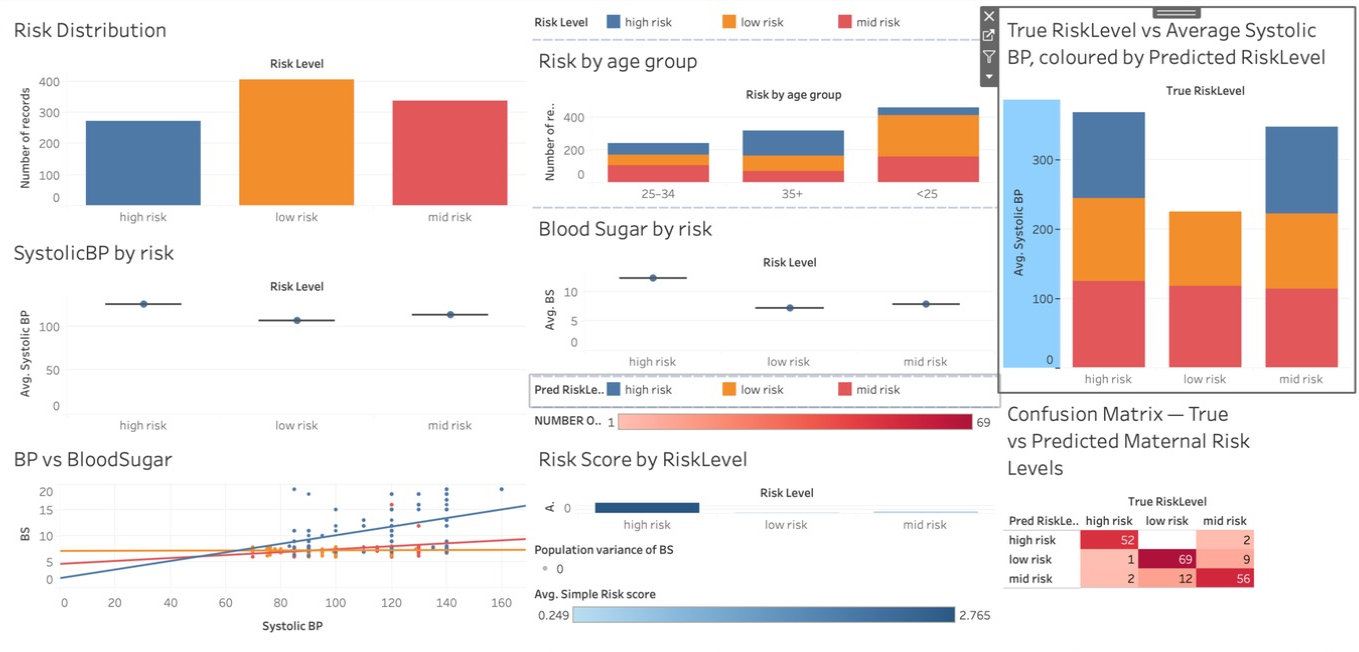

Layout of this report page (visuals, bound fields, positions):
{"tool":"tableau","page":{"name":"Maternal Risk Dashboard","canvas":[1000,1000],"units":"permille","ordinal":0},"visuals":[{"type":"worksheet","title":"Risk Distribution","mark":"Automatic","rows":["Calculation_1932114620417363980"],"cols":["RiskLevel"],"box":[5.7,10.4,384.7,342.4]},{"type":"legend","title":"Risk Distribution","param":"[federated.1vqqkcg0n0hl2g129fwqc1333trl].[none:RiskLevel:nk]","box":[390.4,10.4,343.7,44.7]},{"type":"worksheet","title":"True RiskLevel vs Average Systolic BP, coloured by Predicted RiskLevel","mark":"Bar","rows":["SystolicBP"],"cols":["True_RiskLevel","Pred_RiskLevel"],"box":[734.1,10.4,260.3,589.8]},{"type":"worksheet","title":"Risk by age group","mark":"Automatic","rows":["Calculation_1932114620417363980"],"cols":["Calculation_1932114620420632590"],"box":[390.4,55.1,343.7,246.1]},{"type":"worksheet","title":"Blood Sugar by risk","mark":"Circle","rows":["BS"],"cols":["RiskLevel"],"box":[390.4,301.2,343.7,279.9]},{"type":"worksheet","title":"SystolicBP by risk","mark":"Circle","rows":["SystolicBP"],"cols":["RiskLevel"],"box":[5.7,352.8,384.7,318.4]},{"type":"legend","title":"True RiskLevel vs Average Systolic BP, coloured by Predicted RiskLevel","param":"[federated.1jb1w0q1s1ge2d1ayn14j0btzosp].[none:Pred_RiskLevel:nk]","box":[390.4,581.1,343.7,44.7]},{"type":"worksheet","title":"Confusion Matrix — True vs Predicted Maternal Risk Levels","mark":"Square","rows":["Pred_RiskLevel"],"cols":["True_RiskLevel"],"box":[734.1,600.2,260.3,389.4]},{"type":"legend","title":"Confusion Matrix — True vs Predicted Maternal Risk Levels","param":"[federated.1jb1w0q1s1ge2d1ayn14j0btzosp].[sum:Calculation_1932114621842247698:qk","box":[390.4,625.8,343.7,44.7]},{"type":"worksheet","title":"BP vs BloodSugar","mark":"Circle","rows":["BS"],"cols":["SystolicBP"],"box":[5.7,671.2,384.7,318.4]}]}

Visuals, with their boxes on the dashboard's canvas, which has no fixed pixel size, in thousandths of its width and height (x1, y1, x2, y2). These are canvas units, not pixel positions in the 1359x652 screenshot, which may show the page scaled, cropped or inside an application window:
"Risk Distribution" worksheet: x1=6, y1=10, x2=390, y2=353
"Risk Distribution" legend: x1=390, y1=10, x2=734, y2=55
"True RiskLevel vs Average Systolic BP, coloured by Predicted RiskLevel" worksheet (Bar marks): x1=734, y1=10, x2=994, y2=600
"Risk by age group" worksheet: x1=390, y1=55, x2=734, y2=301
"Blood Sugar by risk" worksheet (Circle marks): x1=390, y1=301, x2=734, y2=581
"SystolicBP by risk" worksheet (Circle marks): x1=6, y1=353, x2=390, y2=671
"True RiskLevel vs Average Systolic BP, coloured by Predicted RiskLevel" legend: x1=390, y1=581, x2=734, y2=626
"Confusion Matrix — True vs Predicted Maternal Risk Levels" worksheet (Square marks): x1=734, y1=600, x2=994, y2=990
"Confusion Matrix — True vs Predicted Maternal Risk Levels" legend: x1=390, y1=626, x2=734, y2=670
"BP vs BloodSugar" worksheet (Circle marks): x1=6, y1=671, x2=390, y2=990
